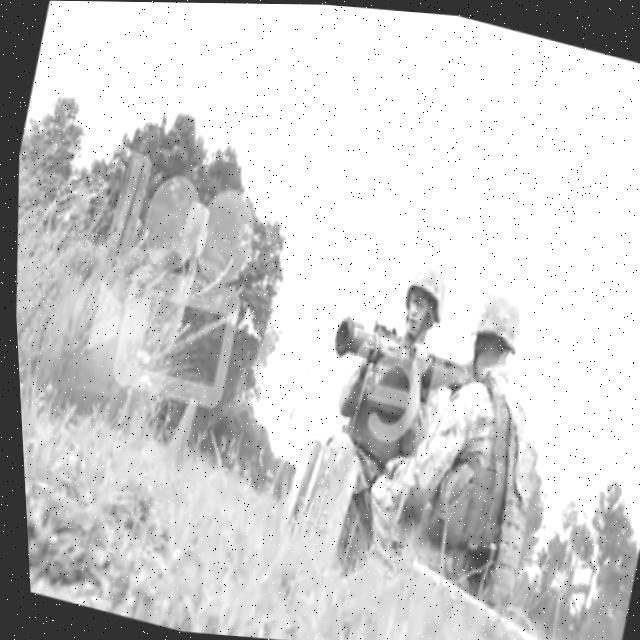rocket: (324, 312, 473, 392)
